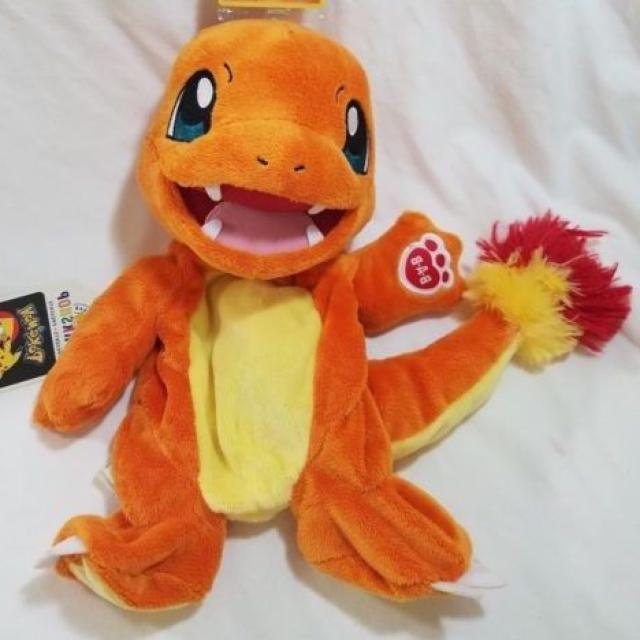Charmander: (42, 22, 487, 601)
